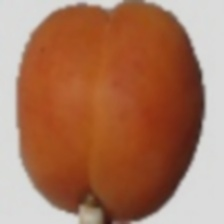apricot: (12, 23, 182, 201)
